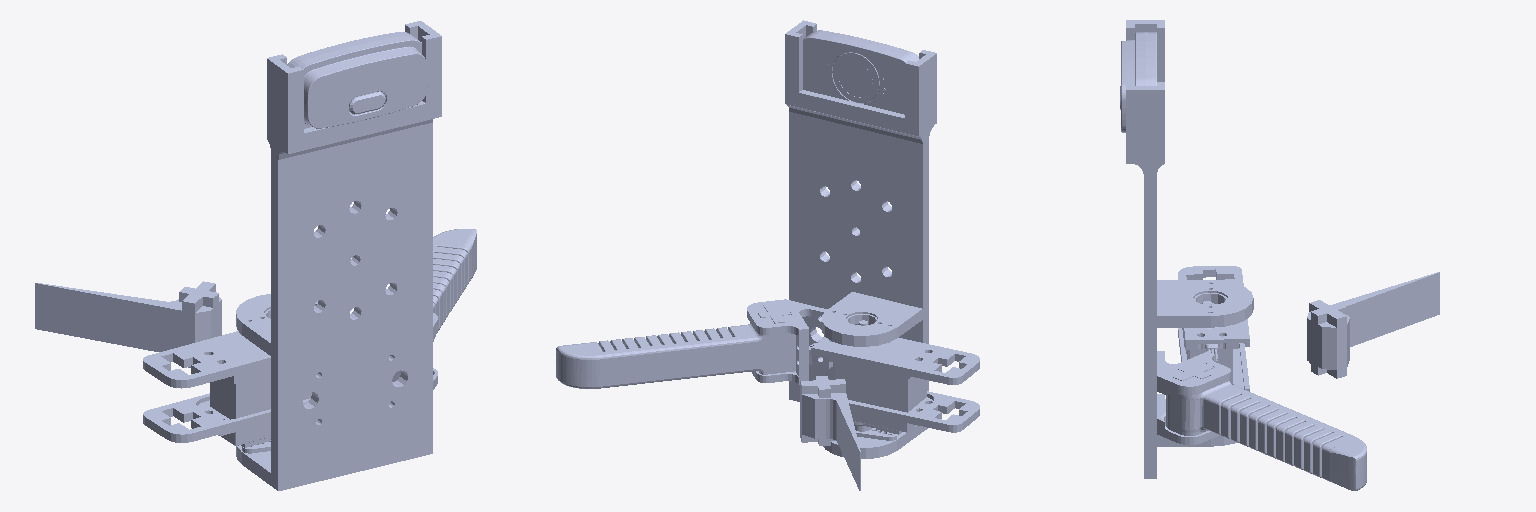
The robot description file, URDF, robot "robot":
<?xml version="0.0" ?>
<robot name="">
	<link name="base_link">
		<inertial>
			<origin rpy="0.00000 -0.00000 0.00000" xyz="0.00000 0.00000 0.00000"/>
			<mass value="4.00000"/>
			<inertia ixx="0.01063" ixy="0" ixz="0" iyy="0.00875" iyz="0" izz="0.01809"/>
		</inertial>
		<visual>
			<origin rpy="0.00000 -0.00000 0.00000" xyz="0.00000 0.00000 0.00000"/>
			<geometry>
				<mesh filename="assets/ur5/lw_ur_description/meshes/ur10/visual/base.dae" scale="1.00000 1.00000 1.00000"/>
			</geometry>
			<material name="mat_-1_0">
				<color rgba="0.23438 0.72656 0.32812 1.00000" />
			</material>
		</visual>
		<collision>
			<origin rpy="0.00000 -0.00000 0.00000" xyz="0.00000 0.00000 0.00000"/>
			<geometry>
				<mesh filename="assets/ur5/lw_ur_description/meshes/ur10/collision/base.stl" scale="1.00000 1.00000 1.00000"/>
			</geometry>
		</collision>
	</link>
	<link name="shoulder_link">
		<inertial>
			<origin rpy="0.00000 -0.00000 0.00000" xyz="0.00000 0.00000 0.00000"/>
			<mass value="7.77800"/>
			<inertia ixx="0.03989" ixy="0" ixz="0" iyy="0.03770" iyz="0" izz="0.03412"/>
		</inertial>
		<visual>
			<origin rpy="0.00000 -0.00000 0.00000" xyz="0.00000 0.00000 0.00000"/>
			<geometry>
				<mesh filename="assets/ur5/lw_ur_description/meshes/ur10/visual/shoulder.dae" scale="1.00000 1.00000 1.00000"/>
			</geometry>
			<material name="mat_0_0">
				<color rgba="0.23438 0.72656 0.32812 1.00000" />
			</material>
		</visual>
		<collision>
			<origin rpy="0.00000 -0.00000 0.00000" xyz="0.00000 0.00000 0.00000"/>
			<geometry>
				<mesh filename="assets/ur5/lw_ur_description/meshes/ur10/collision/shoulder.stl" scale="1.00000 1.00000 1.00000"/>
			</geometry>
		</collision>
	</link>
	<link name="upper_arm_link">
		<inertial>
			<origin rpy="0.00000 -0.00000 0.00000" xyz="0.00000 0.00000 0.30600"/>
			<mass value="12.93000"/>
			<inertia ixx="0.65013" ixy="0" ixz="0" iyy="0.64040" iyz="0" izz="0.06264"/>
		</inertial>
		<visual>
			<origin rpy="0.00000 -0.00000 0.00000" xyz="0.00000 0.00000 0.00000"/>
			<geometry>
				<mesh filename="assets/ur5/lw_ur_description/meshes/ur10/visual/upperarm.dae" scale="1.00000 1.00000 1.00000"/>
			</geometry>
			<material name="mat_1_0">
				<color rgba="0.95312 0.75781 0.05078 1.00000" />
			</material>
		</visual>
		<collision>
			<origin rpy="0.00000 -0.00000 0.00000" xyz="0.00000 0.00000 0.00000"/>
			<geometry>
				<mesh filename="assets/ur5/lw_ur_description/meshes/ur10/collision/upperarm.stl" scale="1.00000 1.00000 1.00000"/>
			</geometry>
		</collision>
	</link>
	<link name="forearm_link">
		<inertial>
			<origin rpy="0.00000 -0.00000 0.00000" xyz="0.00000 0.00000 0.28615"/>
			<mass value="3.87000"/>
			<inertia ixx="0.15749" ixy="0" ixz="0" iyy="0.15609" iyz="0" izz="0.01167"/>
		</inertial>
		<visual>
			<origin rpy="0.00000 -0.00000 0.00000" xyz="0.00000 0.00000 0.00000"/>
			<geometry>
				<mesh filename="assets/ur5/lw_ur_description/meshes/ur10/visual/forearm.dae" scale="1.00000 1.00000 1.00000"/>
			</geometry>
			<material name="mat_2_0">
				<color rgba="0.85547 0.19531 0.21094 1.00000" />
			</material>
		</visual>
		<collision>
			<origin rpy="0.00000 -0.00000 0.00000" xyz="0.00000 0.00000 0.00000"/>
			<geometry>
				<mesh filename="assets/ur5/lw_ur_description/meshes/ur10/collision/forearm.stl" scale="1.00000 1.00000 1.00000"/>
			</geometry>
		</collision>
	</link>
	<link name="wrist_1_link">
		<inertial>
			<origin rpy="0.00000 -0.00000 0.00000" xyz="0.00000 0.00000 0.00000"/>
			<mass value="1.96000"/>
			<inertia ixx="0.00438" ixy="0" ixz="0" iyy="0.00408" iyz="0" izz="0.00338"/>
		</inertial>
		<visual>
			<origin rpy="0.00000 -0.00000 0.00000" xyz="0.00000 0.00000 0.00000"/>
			<geometry>
				<mesh filename="assets/ur5/lw_ur_description/meshes/ur10/visual/wrist1.dae" scale="1.00000 1.00000 1.00000"/>
			</geometry>
			<material name="mat_3_0">
				<color rgba="0.28125 0.51953 0.92578 1.00000" />
			</material>
		</visual>
		<collision>
			<origin rpy="0.00000 -0.00000 0.00000" xyz="0.00000 0.00000 0.00000"/>
			<geometry>
				<mesh filename="assets/ur5/lw_ur_description/meshes/ur10/collision/wrist1.stl" scale="1.00000 1.00000 1.00000"/>
			</geometry>
		</collision>
	</link>
	<link name="wrist_2_link">
		<inertial>
			<origin rpy="0.00000 -0.00000 0.00000" xyz="0.00000 0.00000 0.00000"/>
			<mass value="1.96000"/>
			<inertia ixx="0.00438" ixy="0" ixz="0" iyy="0.00338" iyz="0" izz="0.00409"/>
		</inertial>
		<visual>
			<origin rpy="0.00000 -0.00000 0.00000" xyz="0.00000 0.00000 0.00000"/>
			<geometry>
				<mesh filename="assets/ur5/lw_ur_description/meshes/ur10/visual/wrist2.dae" scale="1.00000 1.00000 1.00000"/>
			</geometry>
			<material name="mat_4_0">
				<color rgba="0.23438 0.72656 0.32812 1.00000" />
			</material>
		</visual>
		<collision>
			<origin rpy="0.00000 -0.00000 0.00000" xyz="0.00000 0.00000 0.00000"/>
			<geometry>
				<mesh filename="assets/ur5/lw_ur_description/meshes/ur10/collision/wrist2.stl" scale="1.00000 1.00000 1.00000"/>
			</geometry>
		</collision>
	</link>
	<link name="wrist_3_link">
		<inertial>
			<origin rpy="0.00000 -0.00000 0.00000" xyz="0.00000 0.00000 0.00000"/>
			<mass value="0.20200"/>
			<inertia ixx="0.00018" ixy="0" ixz="0" iyy="0.00031" iyz="0" izz="0.00018"/>
		</inertial>
		<visual>
			<origin rpy="0.00000 -0.00000 0.00000" xyz="0.00000 0.00000 0.00000"/>
			<geometry>
				<mesh filename="assets/ur5/lw_ur_description/meshes/ur10/visual/wrist3.dae" scale="1.00000 1.00000 1.00000"/>
			</geometry>
			<material name="mat_5_0">
				<color rgba="0.95312 0.75781 0.05078 1.00000" />
			</material>
		</visual>
		<collision>
			<origin rpy="0.00000 -0.00000 0.00000" xyz="0.00000 0.00000 0.00000"/>
			<geometry>
				<mesh filename="assets/ur5/lw_ur_description/meshes/ur10/collision/wrist3.stl" scale="1.00000 1.00000 1.00000"/>
			</geometry>
		</collision>
	</link>
	<link name="ee_link">
		<inertial>
			<origin rpy="0.00000 -0.00000 0.00000" xyz="0.00000 0.00000 0.00000"/>
			<mass value="1.00000"/>
			<inertia ixx="0.00000" ixy="0" ixz="0" iyy="0.00000" iyz="0" izz="0.00000"/>
		</inertial>
	</link>
	<link name="base_link1">
		<inertial>
			<origin rpy="0.00000 -0.00000 0.00000" xyz="0.00018 0.01717 0.00798"/>
			<mass value="0.11784"/>
			<inertia ixx="0.00046" ixy="0" ixz="0" iyy="0.00013" iyz="0" izz="0.00051"/>
		</inertial>
		<visual>
			<origin rpy="0.00000 -0.00000 0.00000" xyz="0.00000 0.00000 0.00000"/>
			<geometry>
				<mesh filename="assets/ur5/collision/base_link_cam.STL" scale="1.00000 1.00000 1.00000"/>
			</geometry>
			<material name="mat_-1_0">
				<color rgba="0.79216 0.81961 0.93333 1.00000" />
			</material>
		</visual>
		<collision>
			<origin rpy="0.00000 -0.00000 0.00000" xyz="0.00000 0.00000 0.00000"/>
			<geometry>
				<mesh filename="assets/ur5/collision/base_link_cam.STL" scale="1.00000 1.00000 1.00000"/>
			</geometry>
		</collision>
	</link>
	<link name="rigid_link1">
		<inertial>
			<origin rpy="0.00000 -0.00000 0.00000" xyz="0.00246 0.00390 0.01312"/>
			<mass value="0.04453"/>
			<inertia ixx="0.00005" ixy="0" ixz="0" iyy="0.00004" iyz="0" izz="0.00002"/>
		</inertial>
		<visual>
			<origin rpy="0.00000 -0.00000 0.00000" xyz="0.00000 0.00000 0.00000"/>
			<geometry>
				<mesh filename="assets/ur5/collision/rigid_link.STL" scale="1.00000 1.00000 1.00000"/>
			</geometry>
			<material name="mat_0_0">
				<color rgba="0.79216 0.81961 0.93333 1.00000" />
			</material>
		</visual>
		<collision>
			<origin rpy="0.00000 -0.00000 0.00000" xyz="0.00000 0.00000 0.00000"/>
			<geometry>
				<mesh filename="assets/ur5/collision/rigid_link.STL" scale="1.00000 1.00000 1.00000"/>
			</geometry>
		</collision>
	</link>
	<link name="rigid_tip_link1">
		<inertial>
			<origin rpy="0.00000 -0.00000 0.00000" xyz="0.00774 -0.00085 -0.06113"/>
			<mass value="0.01345"/>
			<inertia ixx="0.00001" ixy="0" ixz="0" iyy="0.00001" iyz="0" izz="0.00000"/>
		</inertial>
		<visual>
			<origin rpy="0.00000 -0.00000 0.00000" xyz="0.00000 0.00000 0.00000"/>
			<geometry>
				<mesh filename="assets/ur5/collision/rigid_tip_link.STL" scale="1.00000 1.00000 1.00000"/>
			</geometry>
			<material name="mat_1_0">
				<color rgba="0.79216 0.81961 0.93333 1.00000" />
			</material>
		</visual>
		<collision>
			<origin rpy="0.00000 -0.00000 0.00000" xyz="0.00000 0.00000 0.00000"/>
			<geometry>
				<mesh filename="assets/ur5/collision/rigid_tip_link.STL" scale="1.00000 1.00000 1.00000"/>
			</geometry>
		</collision>
	</link>
	<link name="soft_tip_link1">
		<inertial>
			<origin rpy="0.00000 -0.00000 0.00000" xyz="-0.06728 -0.00000 -0.00124"/>
			<mass value="0.02675"/>
			<inertia ixx="0.00001" ixy="0" ixz="0" iyy="0.00004" iyz="0" izz="0.00004"/>
		</inertial>
		<visual>
			<origin rpy="0.00000 -0.00000 0.00000" xyz="0.00000 0.00000 0.00000"/>
			<geometry>
				<mesh filename="assets/ur5/collision/soft_tip_link.STL" scale="1.00000 1.00000 1.00000"/>
			</geometry>
			<material name="mat_2_0">
				<color rgba="0.79216 0.81961 0.93333 1.00000" />
			</material>
		</visual>
		<collision>
			<origin rpy="0.00000 -0.00000 0.00000" xyz="0.00000 0.00000 0.00000"/>
			<geometry>
				<mesh filename="assets/ur5/collision/soft_tip_link.STL" scale="1.00000 1.00000 1.00000"/>
			</geometry>
		</collision>
	</link>
	<joint name="shoulder_pan_joint" type="revolute">
		<parent link="base_link"/>
		<child link="shoulder_link"/>
		<dynamics damping="1.0" friction="0.0001"/>
		<origin rpy="0.00000 -0.00000 0.00000" xyz="0.00000 0.00000 0.12730"/>
		<axis xyz="0.00000 0.00000 1.00000"/>
		<limit effort="330.0" lower="-6.2831853" upper="6.2831853" velocity="2.16"/>
	</joint>
	<joint name="shoulder_lift_joint" type="revolute">
		<parent link="shoulder_link"/>
		<child link="upper_arm_link"/>
		<dynamics damping="1.0" friction="0.0001"/>
		<origin rpy="0.00000 1.57080 -0.00000" xyz="0.00000 0.22094 0.00000"/>
		<axis xyz="0.00000 1.00000 0.00000"/>
		<limit effort="330.0" lower="-6.2831853" upper="6.2831853" velocity="2.16"/>
	</joint>
	<joint name="elbow_joint" type="revolute">
		<parent link="upper_arm_link"/>
		<child link="forearm_link"/>
		<dynamics damping="1.0" friction="0.0001"/>
		<origin rpy="0.00000 -0.00000 0.00000" xyz="0.00000 -0.17190 0.61200"/>
		<axis xyz="0.00000 1.00000 0.00000"/>
		<limit effort="150.0" lower="-6.2831853" upper="6.2831853" velocity="3.15"/>
	</joint>
	<joint name="wrist_1_joint" type="revolute">
		<parent link="forearm_link"/>
		<child link="wrist_1_link"/>
		<dynamics damping="1.0" friction="0.0001"/>
		<origin rpy="0.00000 1.57080 -0.00000" xyz="0.00000 0.00000 0.57230"/>
		<axis xyz="0.00000 1.00000 0.00000"/>
		<limit effort="54.0" lower="-6.2831853" upper="6.2831853" velocity="3.2"/>
	</joint>
	<joint name="wrist_2_joint" type="revolute">
		<parent link="wrist_1_link"/>
		<child link="wrist_2_link"/>
		<dynamics damping="1.0" friction="0.0001"/>
		<origin rpy="0.00000 -0.00000 0.00000" xyz="0.00000 0.11490 0.00000"/>
		<axis xyz="0.00000 0.00000 1.00000"/>
		<limit effort="54.0" lower="-6.2831853" upper="6.2831853" velocity="3.2"/>
	</joint>
	<joint name="wrist_3_joint" type="revolute">
		<parent link="wrist_2_link"/>
		<child link="wrist_3_link"/>
		<dynamics damping="1.0" friction="0.0001"/>
		<origin rpy="0.00000 -0.00000 0.00000" xyz="0.00000 0.00000 0.11570"/>
		<axis xyz="0.00000 1.00000 0.00000"/>
		<limit effort="54.0" lower="-6.2831853" upper="6.2831853" velocity="3.2"/>
	</joint>
	<joint name="ee_fixed_joint" type="fixed">
		<parent link="wrist_3_link"/>
		<child link="ee_link"/>
		<dynamics damping="1.0" friction="0.0001"/>
		<origin rpy="0.00000 -0.00000 1.57080" xyz="0.00000 0.09220 0.00000"/>
		<axis xyz="0.00000 0.00000 0.00000"/>
	</joint>
	<joint name="joint_dummy1" type="fixed">
		<parent link="ee_link"/>
		<child link="base_link1"/>
		<dynamics damping="1.0" friction="0.0001"/>
		<origin rpy="1.57080 0.00000 1.57080" xyz="0.00000 0.00000 0.00000"/>
		<axis xyz="0.00000 0.00000 1.00000"/>
	</joint>
	<joint name="rigid_rev_joint1" type="revolute">
		<parent link="base_link1"/>
		<child link="rigid_link1"/>
		<dynamics damping="1.0" friction="0.0001"/>
		<origin rpy="0.00000 -0.76 0.00000" xyz="-0.01800 0.06040 0.03100"/>
		<axis xyz="0.00000 -1.00000 0.00000"/>
		<limit
		  lower="-3.1415926"
		  upper="3.1415926"
		  effort="0"
		  velocity="0" />
	</joint>
	<joint name="rigid_tip_joint1" type="fixed">
		<parent link="rigid_link1"/>
		<child link="rigid_tip_link1"/>
		<dynamics damping="1.0" friction="0.0001"/>
		<origin rpy="0.00000 -0.13252 3.14159" xyz="0.02939 -0.00085 0.11906"/>
		<axis xyz="0.00000 0.00000 0.00000"/>
	</joint>
	<joint name="soft_tip_joint1" type="fixed">
		<parent link="base_link1"/>
		<child link="soft_tip_link1"/>
		<dynamics damping="1.0" friction="0.0001"/>
		<origin rpy="0.00000 -0.66549 0.00000" xyz="0.11681 0.06100 0.09874"/>
		<axis xyz="0.00000 0.00000 0.00000"/>
	</joint>
</robot>

--- Render facts (derived) ---
Views: 3 orthographic renders of the robot side by side, from view 1: azimuth 30°, elevation 25°; view 2: azimuth 150°, elevation 25°; view 3: azimuth 270°, elevation 25°.
Model robot with 12 links and 11 joints (7 revolute, 4 fixed), rooted at base_link, posed every joint at zero.
Visible links, largest first — view 1: base_link1, rigid_link1, rigid_tip_link1, soft_tip_link1; view 2: base_link1, soft_tip_link1, rigid_link1, rigid_tip_link1; view 3: base_link1, soft_tip_link1, rigid_tip_link1, rigid_link1.
Link boxes in pixels (box(x1,y1,x2,y2)): base_link1: box(236, 21, 441, 490); rigid_link1: box(143, 331, 311, 447); rigid_tip_link1: box(35, 281, 221, 367); soft_tip_link1: box(392, 229, 476, 381); base_link1: box(747, 20, 936, 458); soft_tip_link1: box(556, 323, 795, 388); rigid_link1: box(810, 320, 979, 434); rigid_tip_link1: box(800, 376, 860, 490); base_link1: box(1120, 20, 1253, 478); soft_tip_link1: box(1166, 381, 1366, 490); rigid_tip_link1: box(1307, 272, 1439, 378); rigid_link1: box(1178, 266, 1249, 391).
Bounding box of the posed robot: 0.1973 × 0.1491 × 0.2006 m (x, y, z).
Meshes: 11 distinct files referenced, 4 mesh visuals loaded (4 binary STL); not drawn: 7 (reference not matched to a file when rendering).